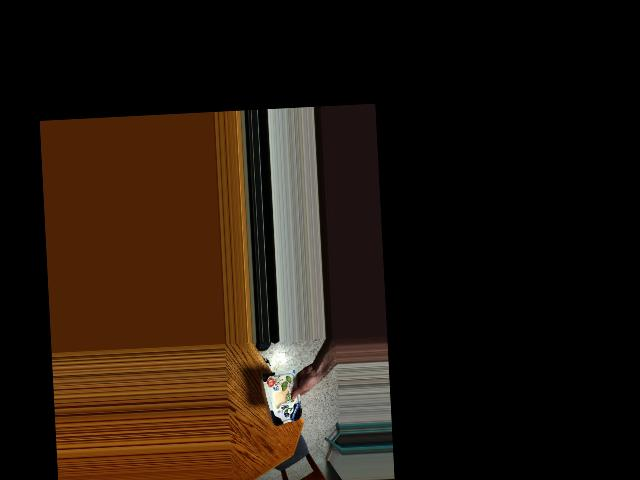cheese: (258, 366, 312, 425)
